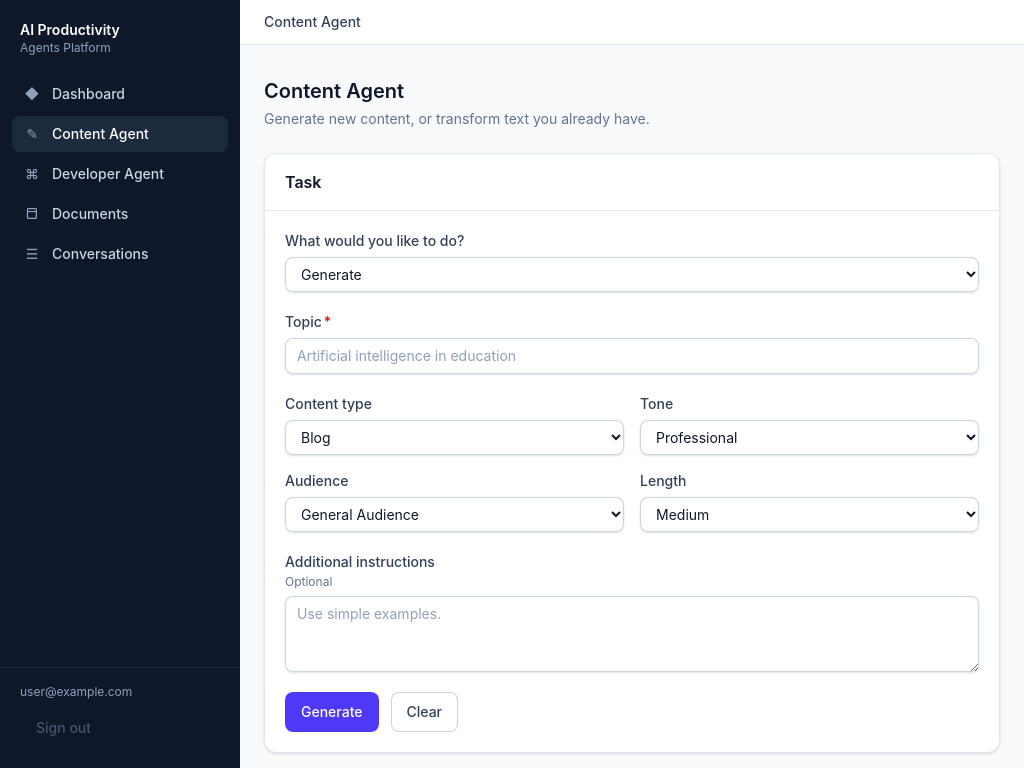
Scenario: Content Agent › maps AI_RATE_LIMITED to a readable message
Type "Anything" into the field labelled "Topic*" at {"x": 632, "y": 356}, box [285, 338, 979, 374]
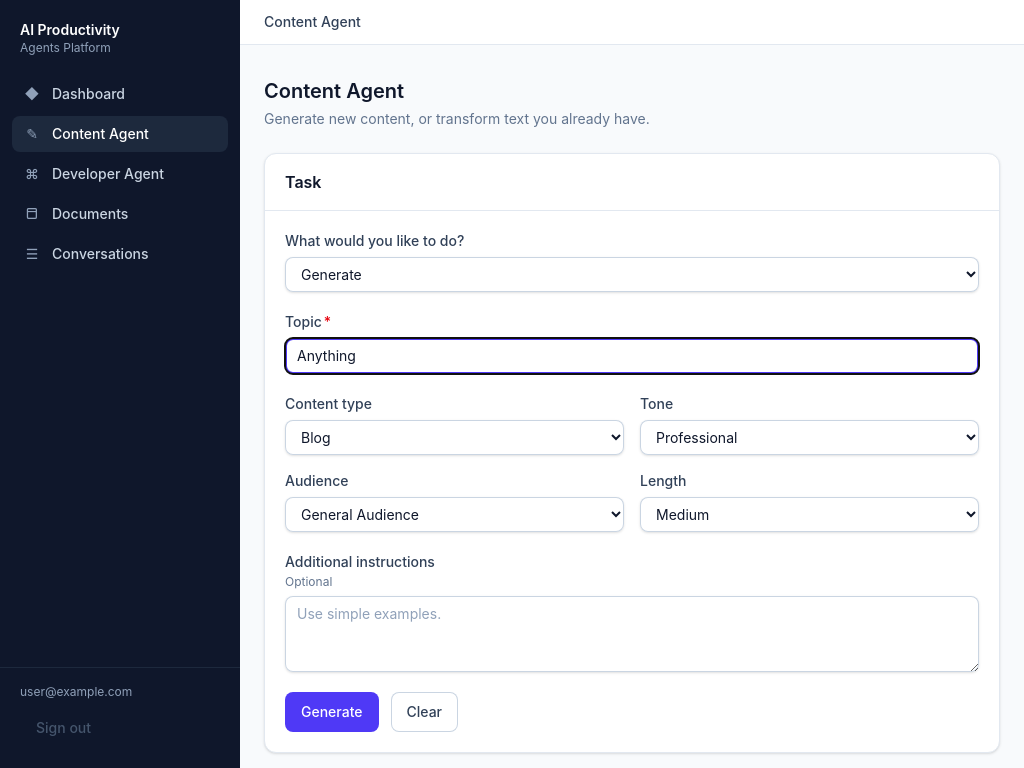
Click the button "Generate" at {"x": 332, "y": 712}, box [285, 692, 378, 732]
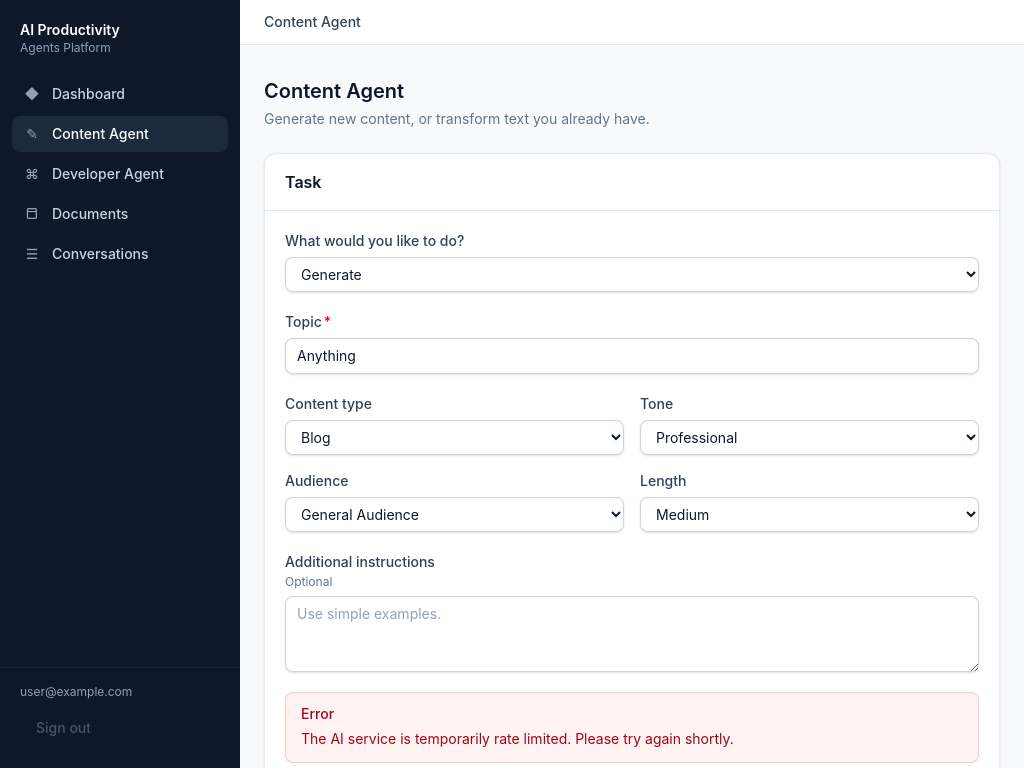
Now the message shows "rate limited", box [301, 730, 734, 747]
